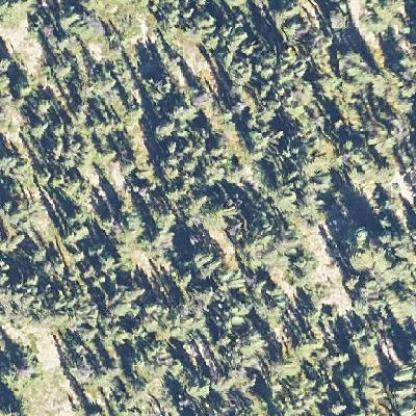tree-top: (335, 224, 379, 272), (230, 326, 269, 368), (282, 246, 316, 289), (185, 246, 222, 278), (222, 56, 257, 85), (10, 340, 40, 373), (111, 280, 148, 306), (118, 104, 146, 132), (24, 116, 51, 140), (10, 79, 35, 99)
